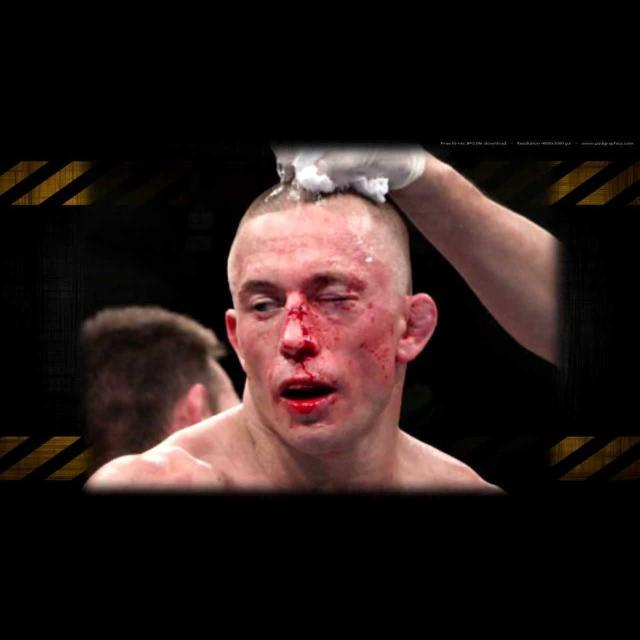blood: (278, 299, 346, 379), (358, 322, 393, 374), (285, 394, 340, 414), (348, 279, 366, 290), (341, 304, 355, 310), (367, 299, 374, 307), (332, 378, 337, 385), (371, 314, 374, 322)
